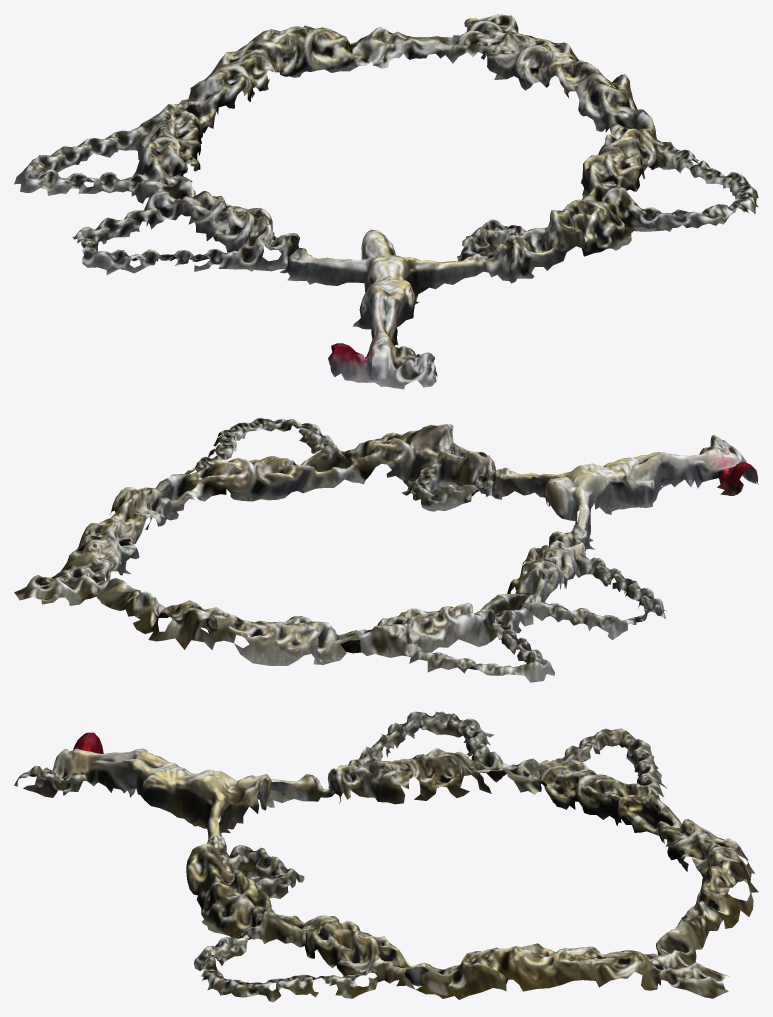
File: jesusnecklace.glb
3 views of the same model, one above another, from view 1: azimuth 30°, elevation 25°; view 2: azimuth 150°, elevation 25°; view 3: azimuth 270°, elevation 25° (orthographic). The views are drawn at different scales.
Visible parts, largest first — view 1: Object; view 2: Object; view 3: Object.
Boxes of the visible parts, x1,y1,x2,y2 form: Object: (14,14,758,389); Object: (14,418,758,682); Object: (14,711,758,1002).
Bounding box in the file's own units: 0.1709 × 0.0151 × 0.1942.
1 material, 1 textured.
